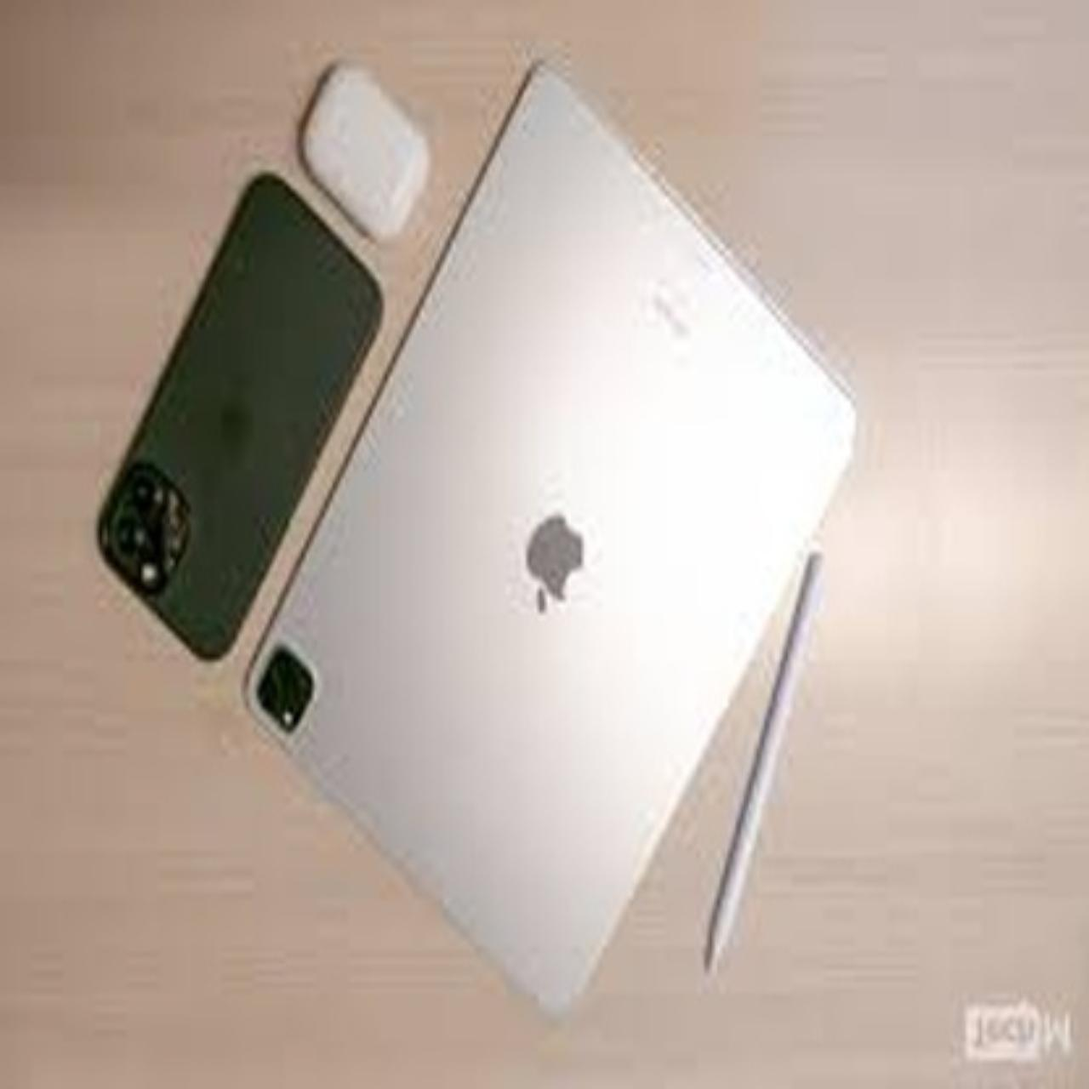Tablet_PC: (236, 58, 890, 1026)
